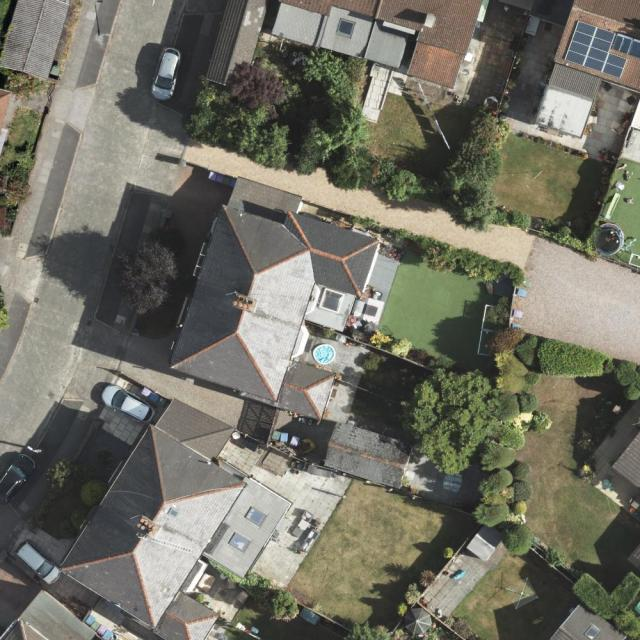roof: (61, 398, 294, 640), (170, 178, 380, 423), (272, 0, 483, 90), (535, 0, 640, 139), (0, 0, 73, 78), (207, 0, 270, 90), (0, 588, 99, 640), (0, 85, 11, 134)
skylight: (241, 502, 270, 531), (319, 286, 347, 313), (228, 532, 252, 553), (336, 18, 356, 40), (166, 505, 180, 516)
solar: (562, 20, 629, 80), (612, 32, 640, 60)
